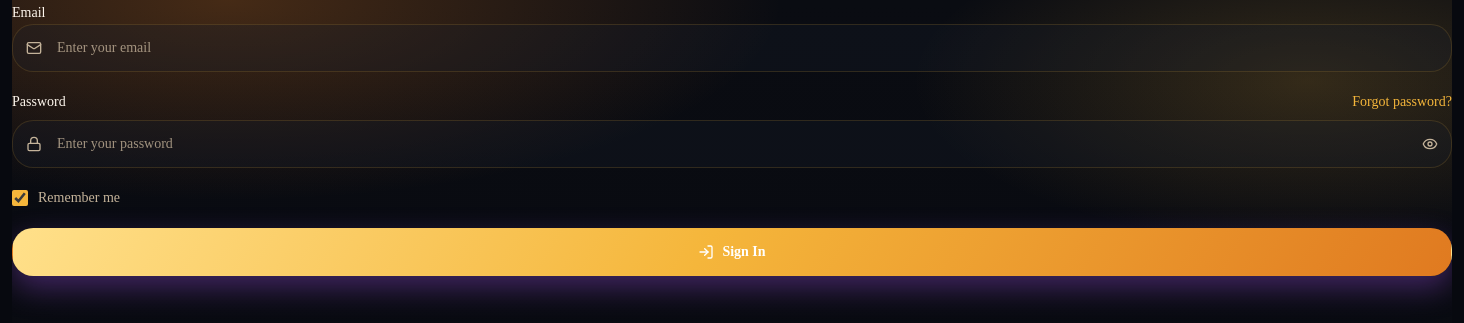
Test: LoginForm › shows loading state while submitting
Step 1. Type "player@example.com" into the field labelled "Email" → (732,48), box x1=12 y1=24 x2=1452 y2=72
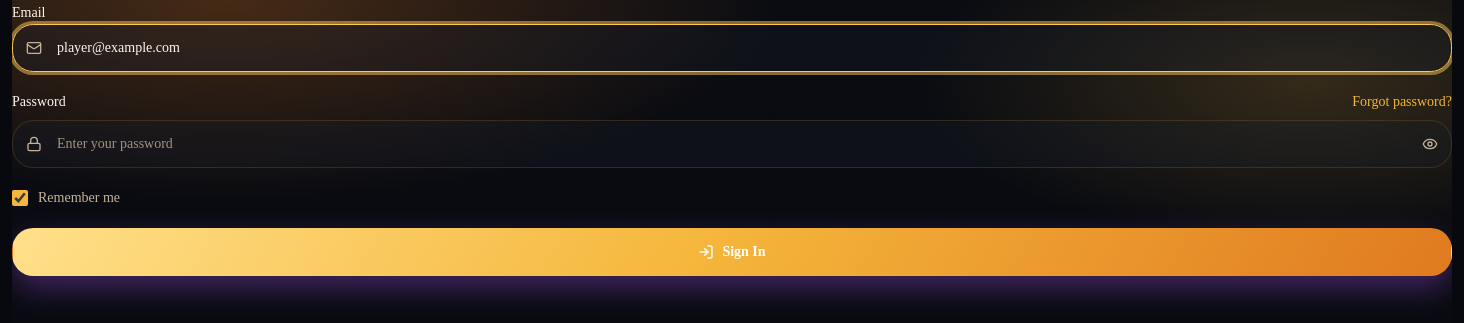
Step 2. Type "password123" into the password field labelled "Password" → (732,144), box x1=12 y1=120 x2=1452 y2=168
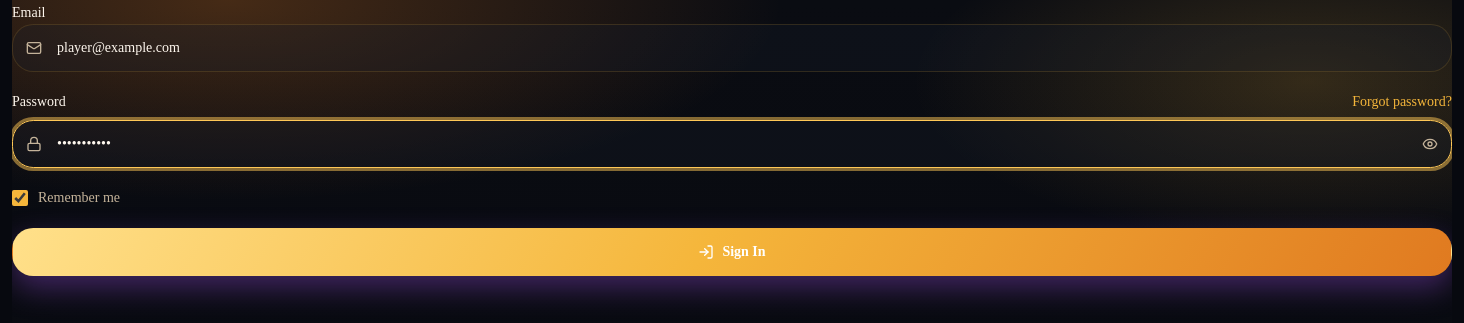
Step 3. Click the button "Sign In" → (732,252), box x1=12 y1=228 x2=1452 y2=276
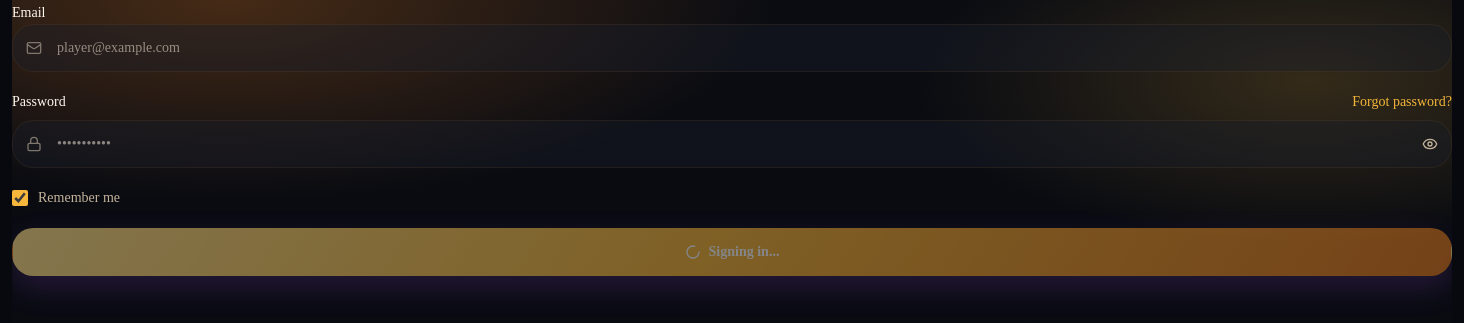
Result: the text "Signing in..." is shown at x1=709 y1=242 x2=779 y2=262
Result: the button "Signing in..." is disabled at x1=12 y1=228 x2=1452 y2=276
